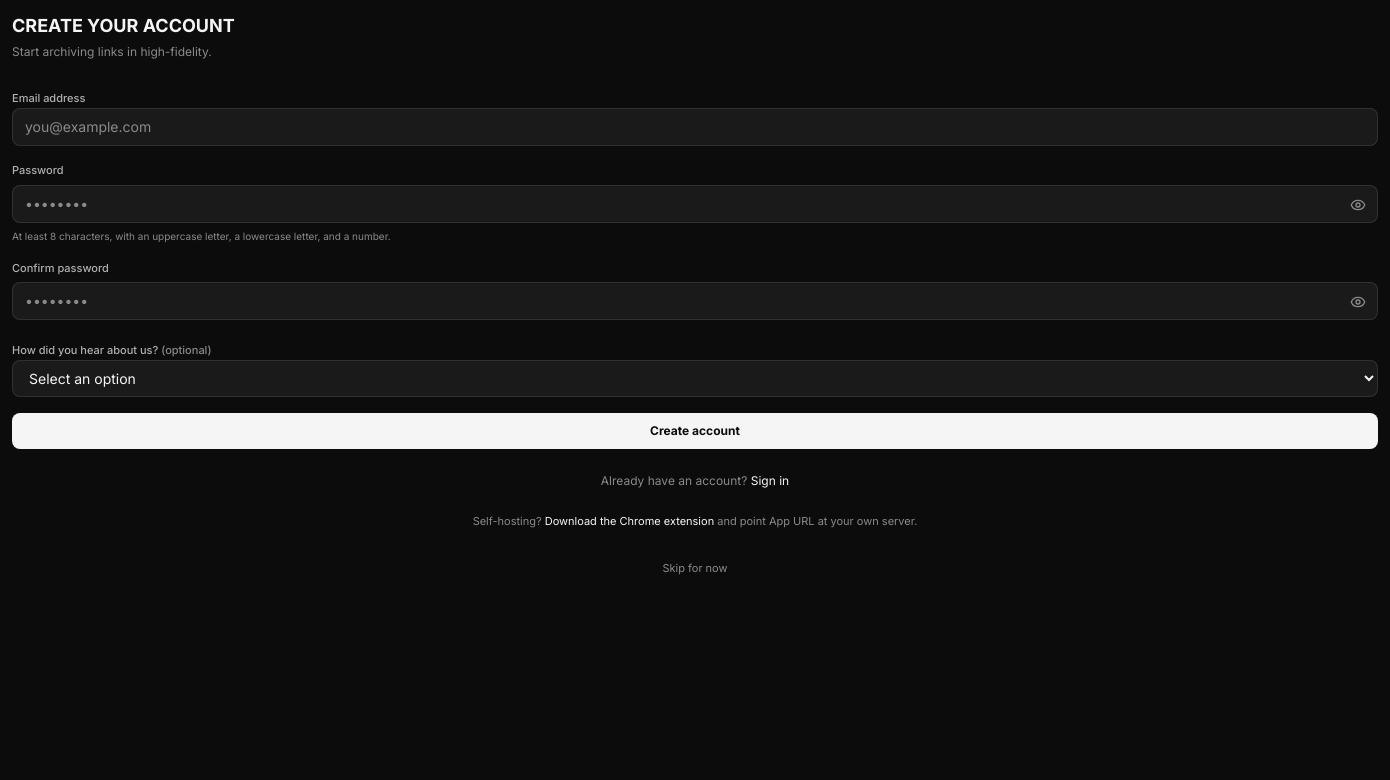
Test: SignupForm › warns about Caps Lock on the password field that is focused
Click the password field labelled "Password". click: [695, 204]
box: [12,184,1378,222]
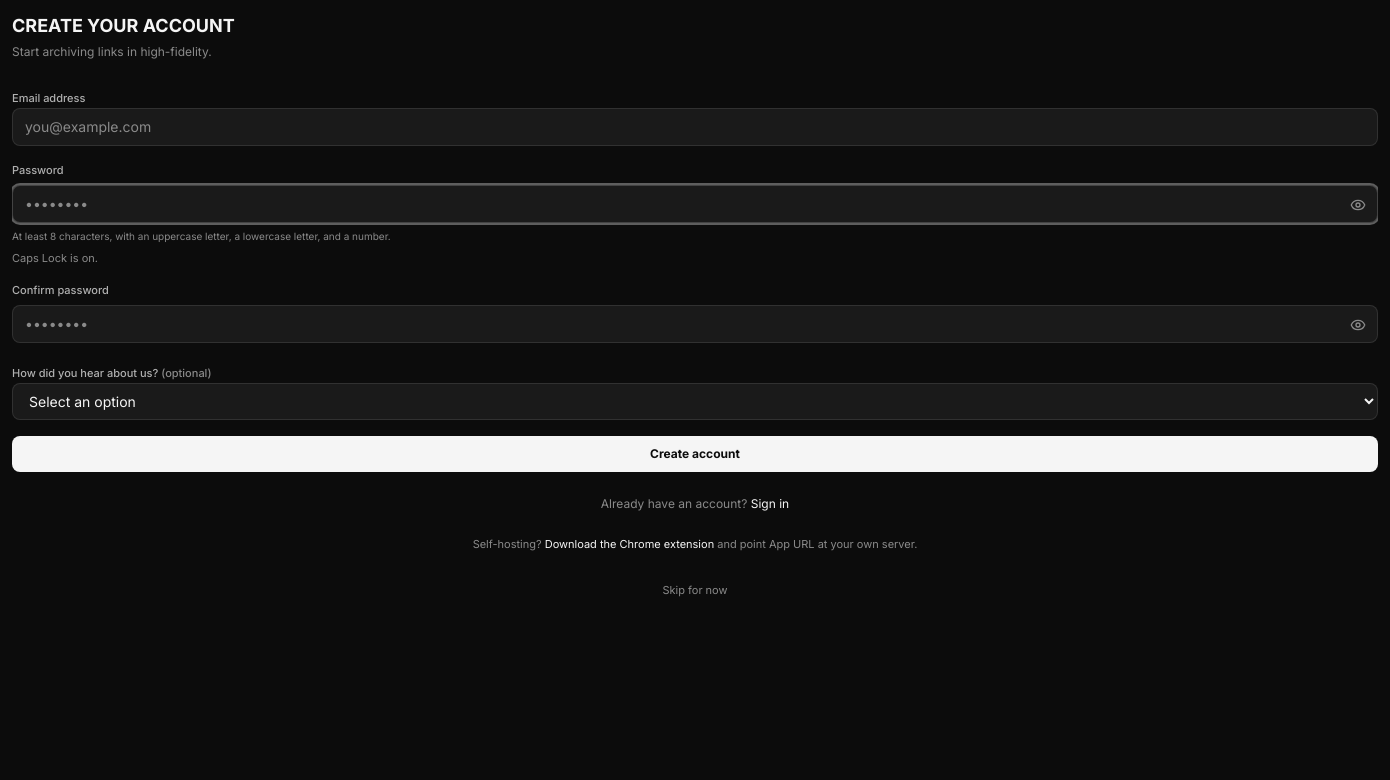
Expected: the message reads "Caps Lock is on.", [12,250,98,264]
Click the password field labelled "Confirm password". click: [695, 324]
box: [12,304,1378,342]
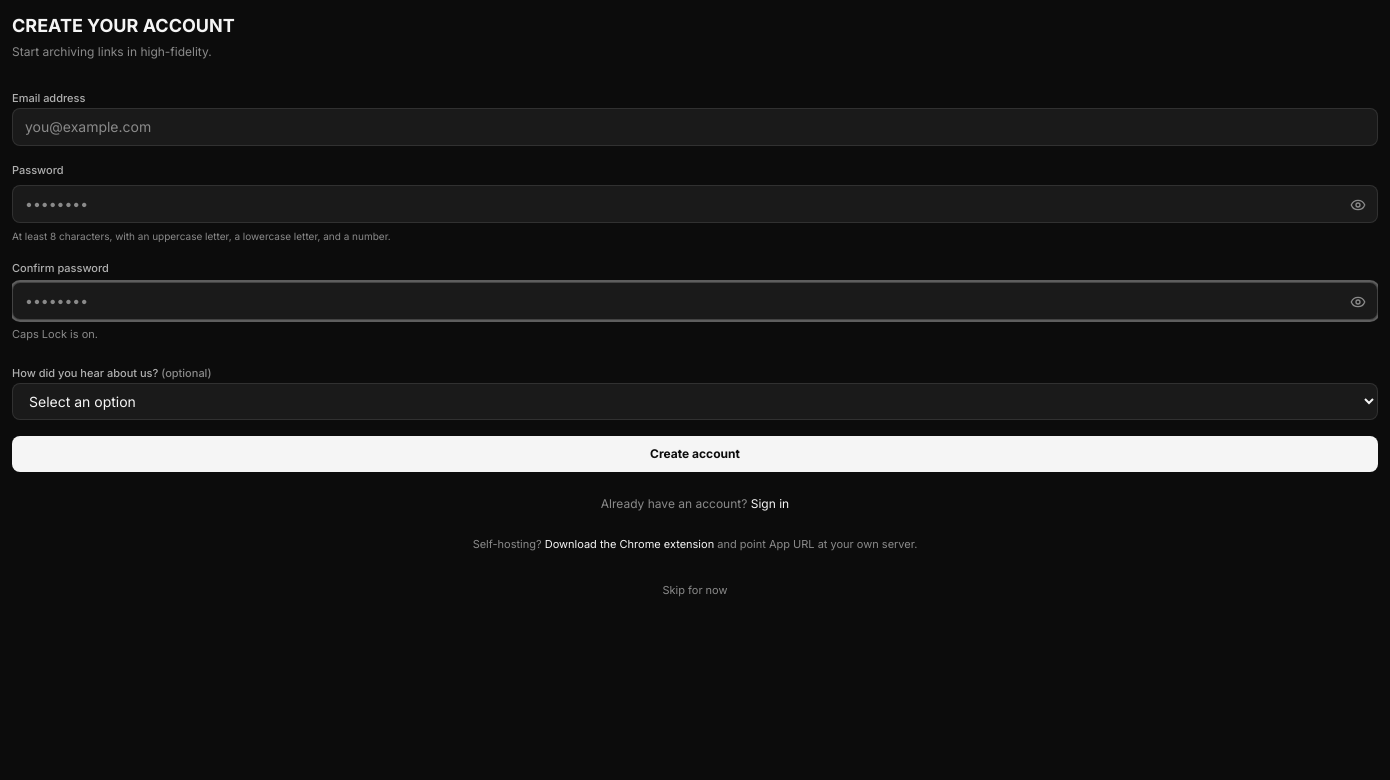
Expected: the message reads "Caps Lock is on.", [12,327,98,341]
Click the field labelled "Email address". click: [695, 127]
box: [12,108,1378,146]
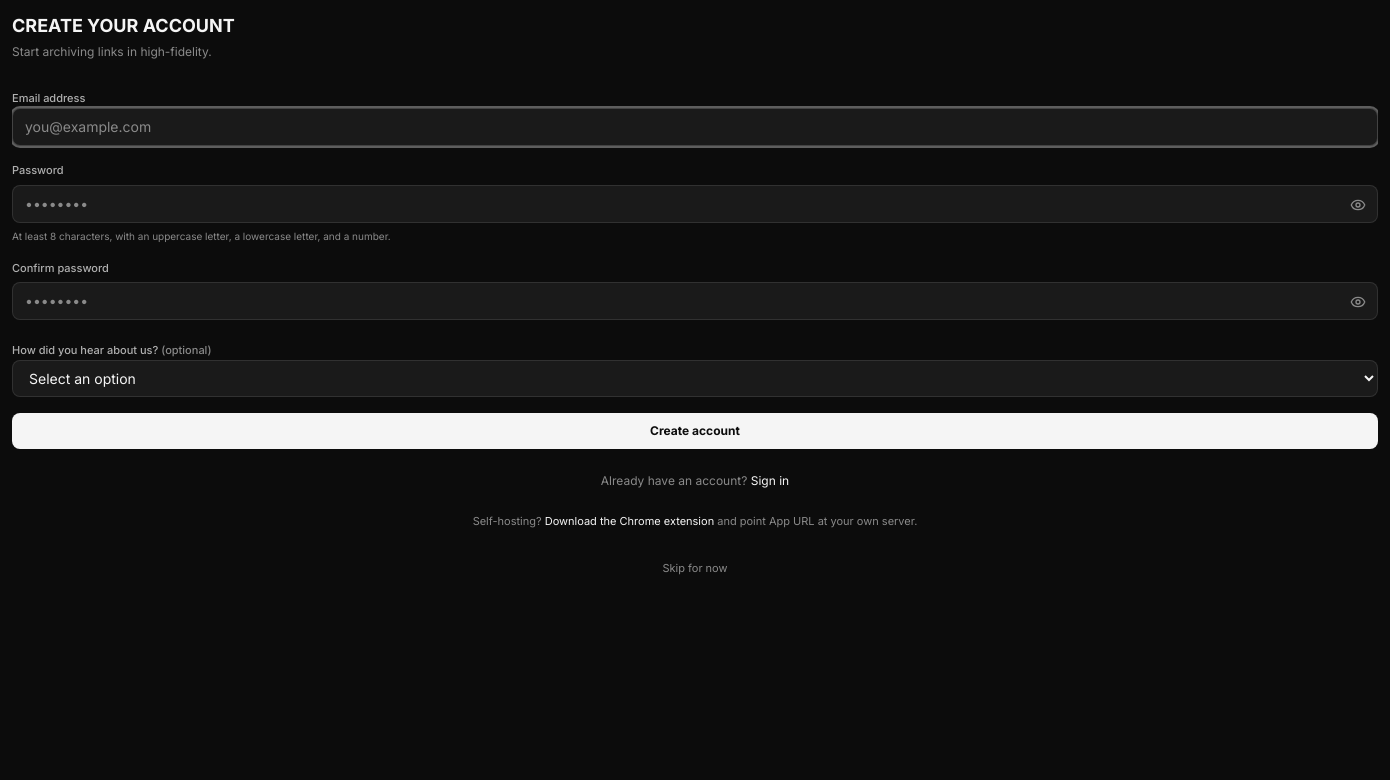
Expected: the text "Caps Lock is on." is gone
